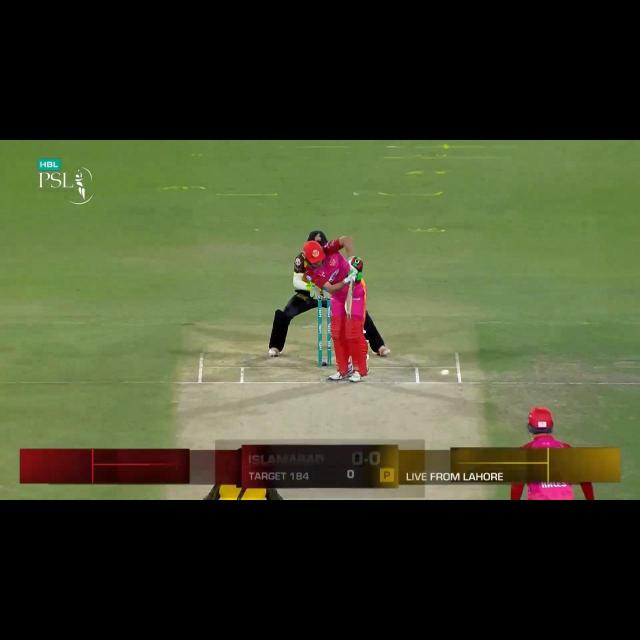bat: (345, 278, 354, 323)
toe: (344, 307, 352, 321)
